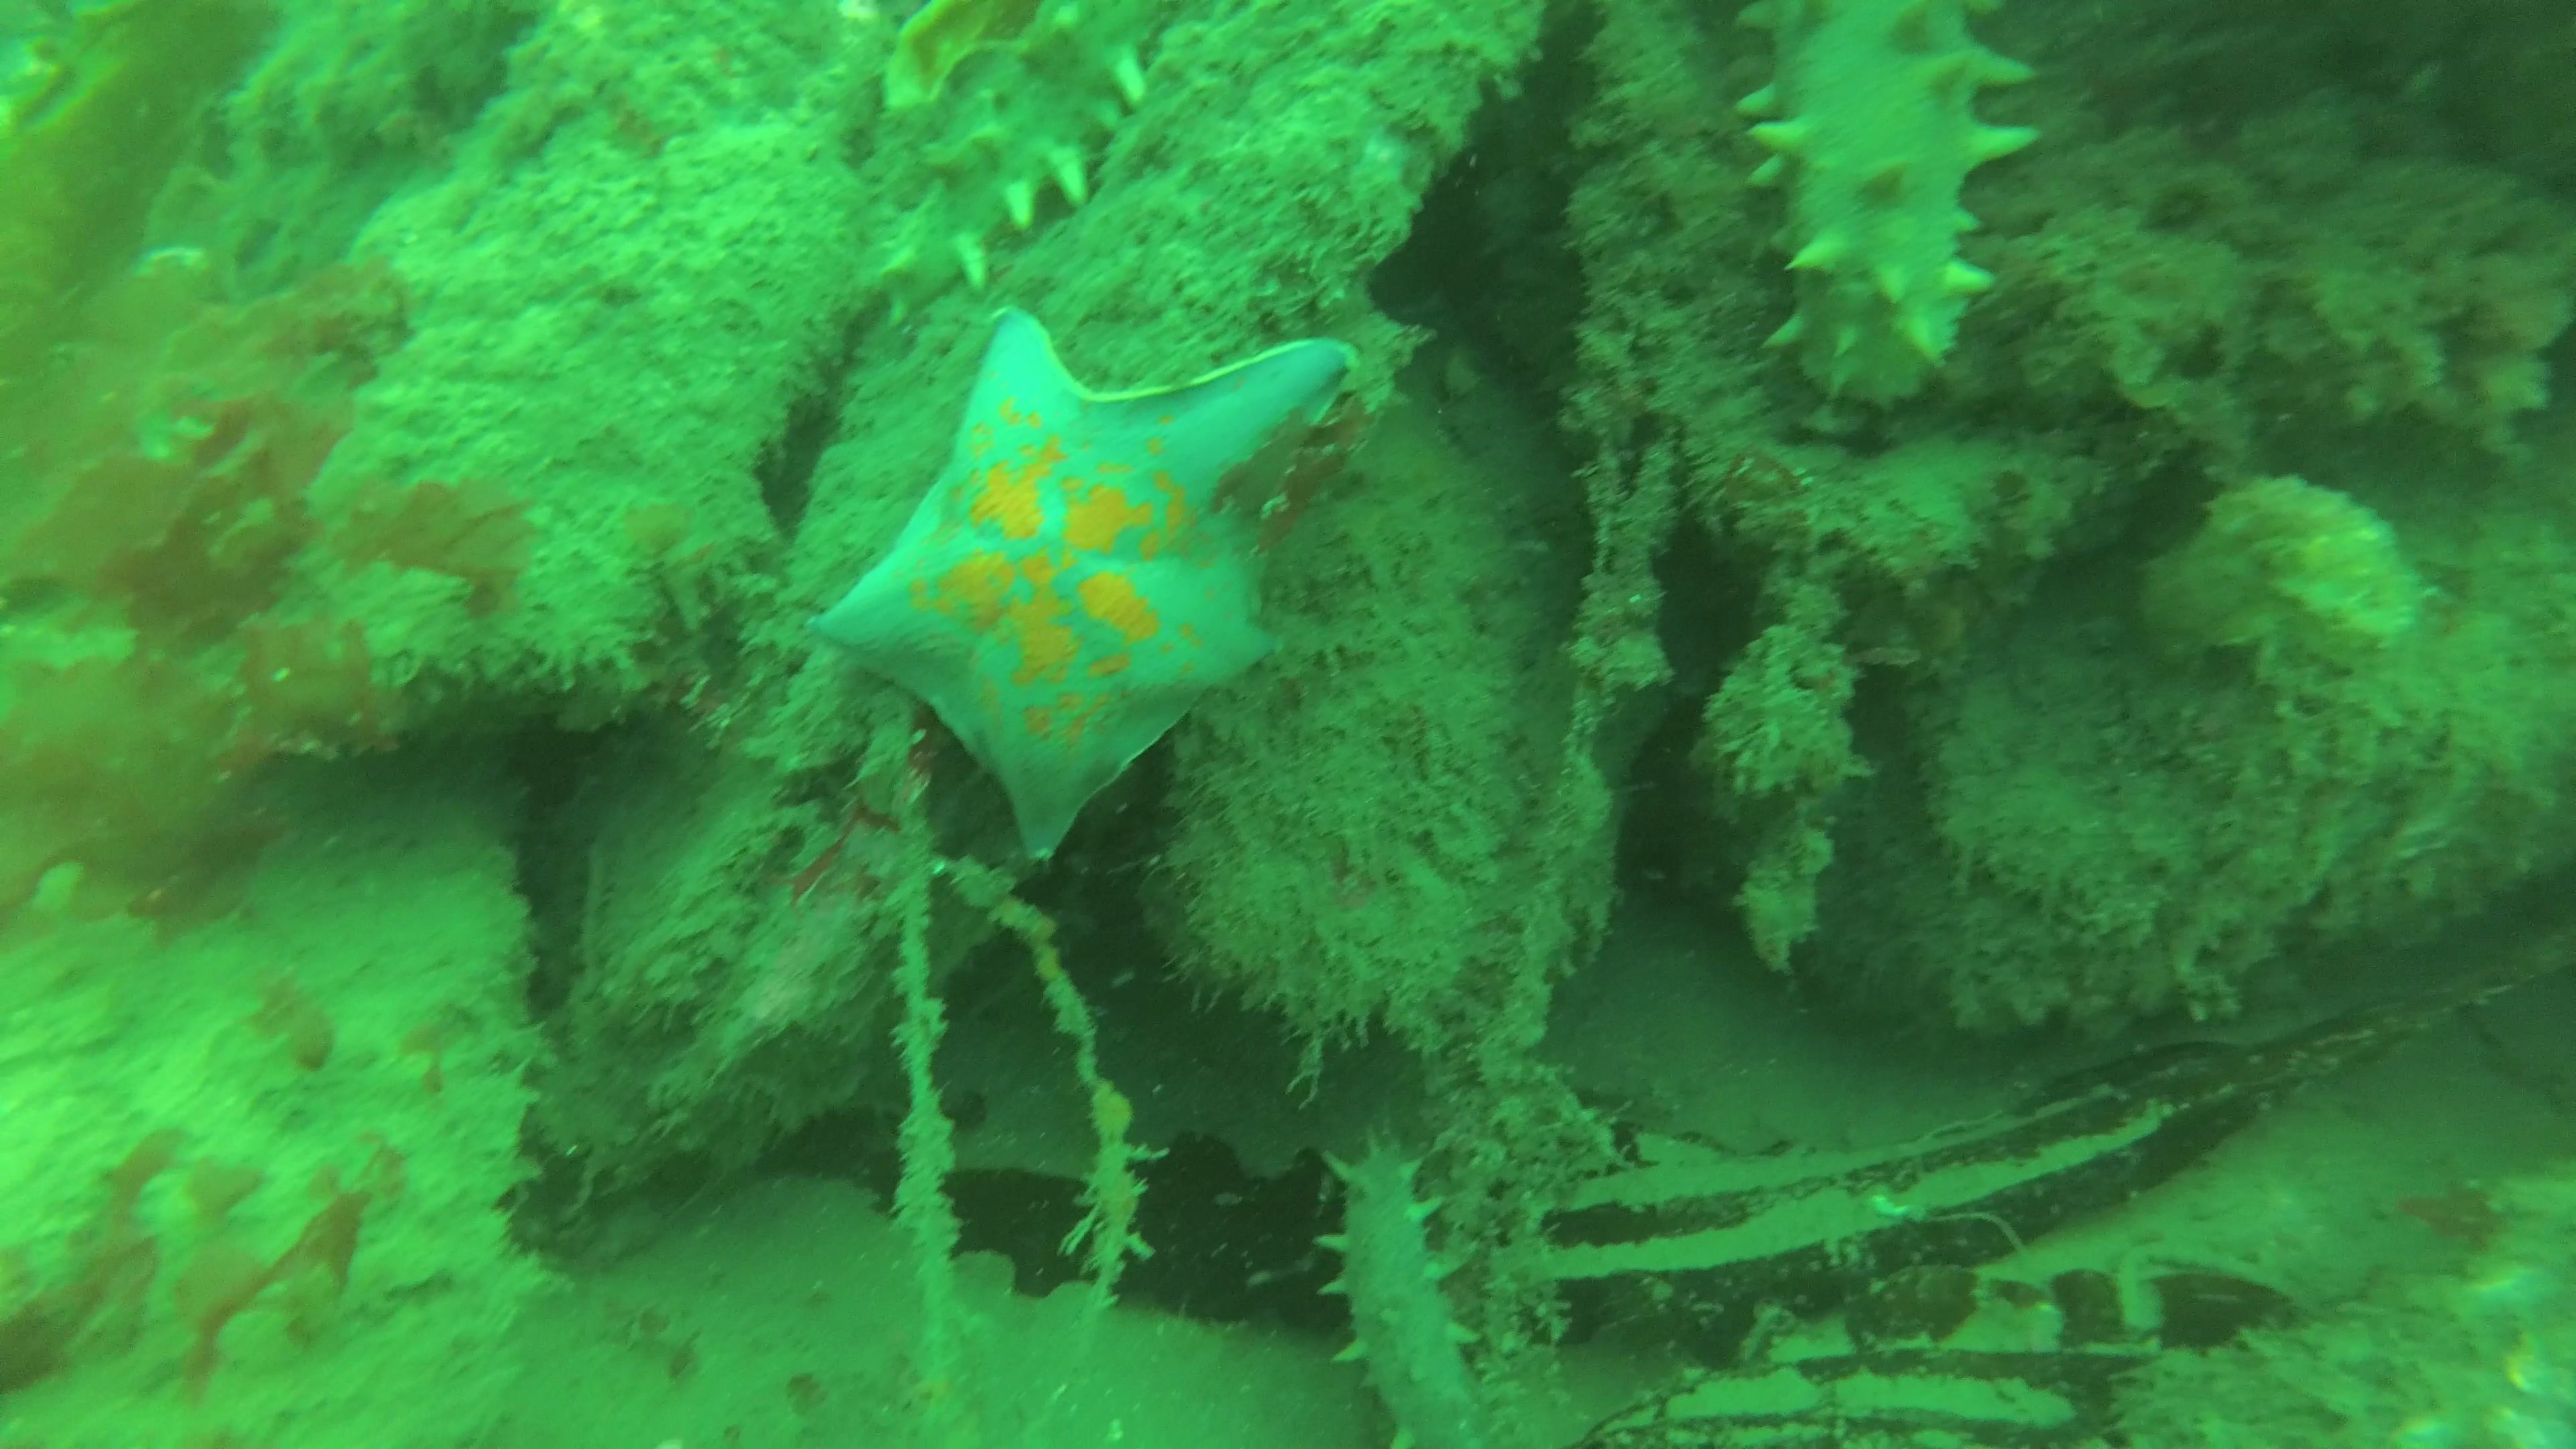holothurian: (1721, 5, 2038, 416), (855, 0, 1155, 333), (1311, 1118, 1493, 1449)
starfish: (803, 317, 1357, 874)
